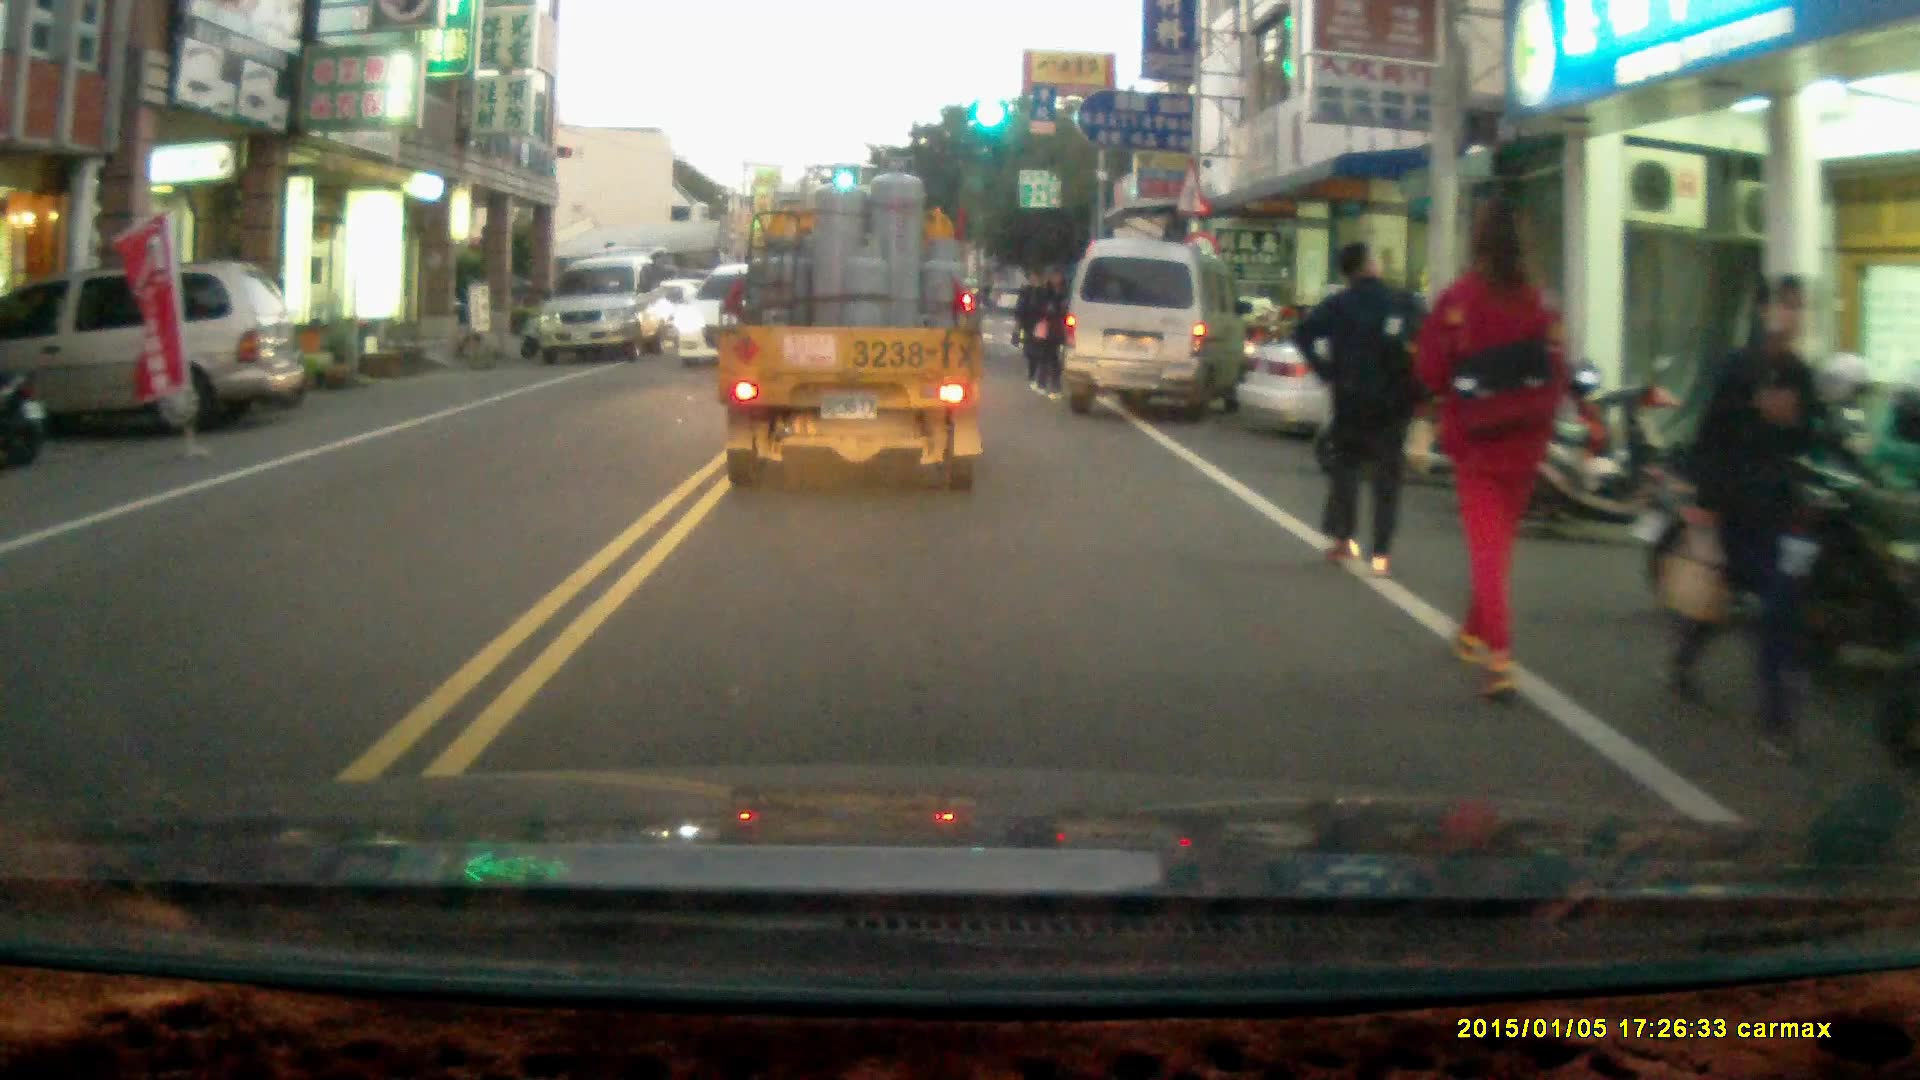pedestrian: (1665, 267, 1826, 759), (1415, 192, 1569, 698), (1293, 239, 1422, 573), (1032, 268, 1069, 402)
vehicle: (719, 170, 993, 505), (1244, 299, 1631, 457), (2, 263, 315, 445), (1066, 232, 1251, 415), (666, 257, 813, 368), (538, 255, 676, 364)
